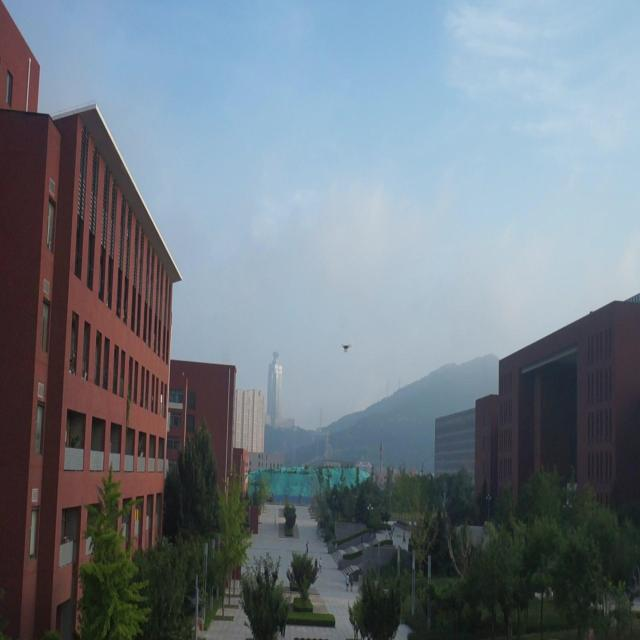drone: (339, 340, 353, 357)
